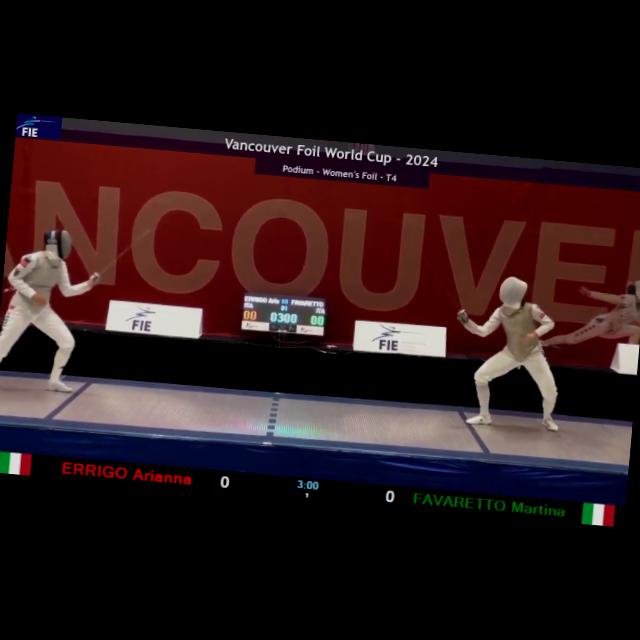blade: (89, 218, 162, 284), (415, 252, 472, 318)
